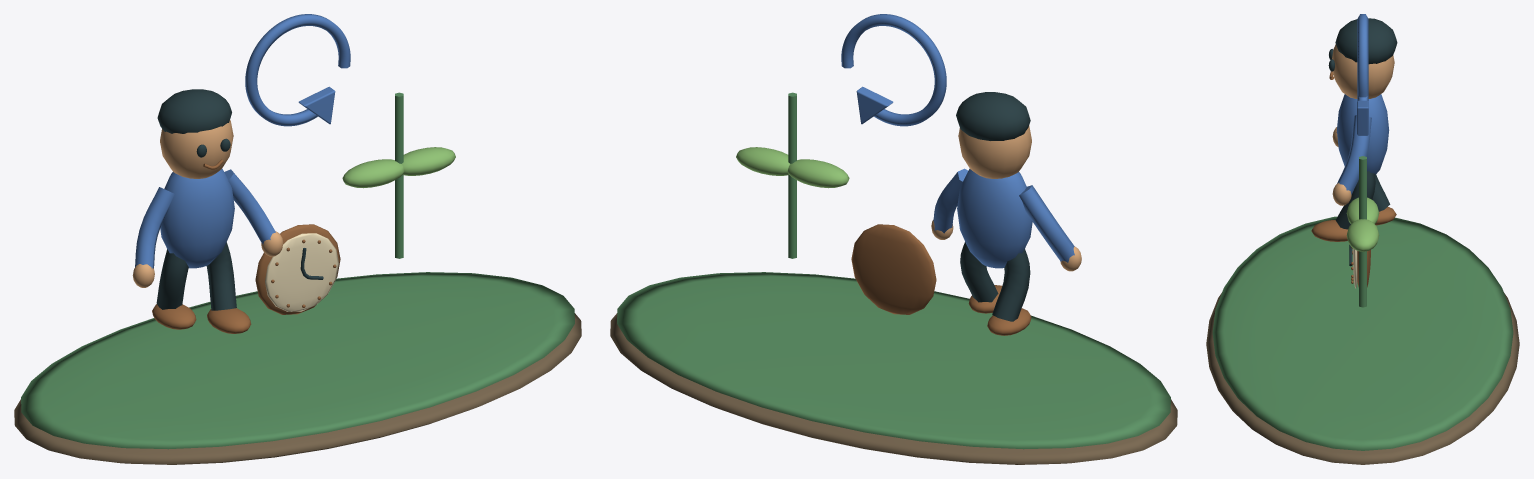
File: complete-second-still-so.glb
3 renders of one model, left to right at view 1: azimuth 30°, elevation 25°; view 2: azimuth 150°, elevation 25°; view 3: azimuth 270°, elevation 25°, orthographic. The views are drawn at different scales.
Parts seen in each view (by area): view 1: complete-second-still-so_surface_01, complete-second-still-so_surface_05, complete-second-still-so_surface_00, complete-second-still-so_surface_03, complete-second-still-so_surface_07, complete-second-still-so_surface_02, complete-second-still-so_surface_04, complete-second-still-so_surface_06; view 2: complete-second-still-so_surface_01, complete-second-still-so_surface_05, complete-second-still-so_surface_00, complete-second-still-so_surface_04, complete-second-still-so_surface_03, complete-second-still-so_surface_02, complete-second-still-so_surface_06; view 3: complete-second-still-so_surface_01, complete-second-still-so_surface_00, complete-second-still-so_surface_05, complete-second-still-so_surface_03, complete-second-still-so_surface_02, complete-second-still-so_surface_06, complete-second-still-so_surface_04.
Boxes of the visible parts, x1,y1,x2,y2 form: complete-second-still-so_surface_01: [21, 92, 574, 449]; complete-second-still-so_surface_05: [135, 14, 350, 268]; complete-second-still-so_surface_00: [14, 313, 581, 464]; complete-second-still-so_surface_03: [156, 89, 323, 310]; complete-second-still-so_surface_07: [265, 233, 338, 311]; complete-second-still-so_surface_02: [132, 120, 283, 287]; complete-second-still-so_surface_04: [152, 159, 340, 333]; complete-second-still-so_surface_06: [342, 147, 455, 188]; complete-second-still-so_surface_01: [617, 92, 1170, 449]; complete-second-still-so_surface_05: [841, 14, 1074, 268]; complete-second-still-so_surface_00: [610, 313, 1177, 464]; complete-second-still-so_surface_04: [851, 224, 1031, 335]; complete-second-still-so_surface_03: [956, 92, 1030, 321]; complete-second-still-so_surface_02: [931, 125, 1081, 271]; complete-second-still-so_surface_06: [736, 147, 849, 188]; complete-second-still-so_surface_01: [1212, 156, 1513, 450]; complete-second-still-so_surface_00: [1206, 293, 1519, 464]; complete-second-still-so_surface_05: [1336, 14, 1389, 194]; complete-second-still-so_surface_03: [1328, 18, 1397, 266]; complete-second-still-so_surface_02: [1332, 44, 1394, 205]; complete-second-still-so_surface_06: [1346, 197, 1379, 251]; complete-second-still-so_surface_04: [1311, 71, 1396, 287].
Bounding box in the file's own units: 4.56 × 2.99 × 2.5.
